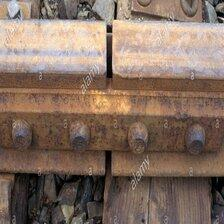railway-gap: (66, 9, 153, 94)
